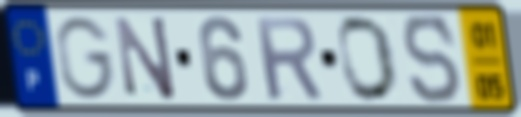6: (195, 13, 250, 104)
G: (53, 14, 118, 102)
N: (111, 13, 179, 103)
O: (335, 13, 401, 106)
R: (250, 14, 326, 104)
S: (400, 11, 465, 107)
